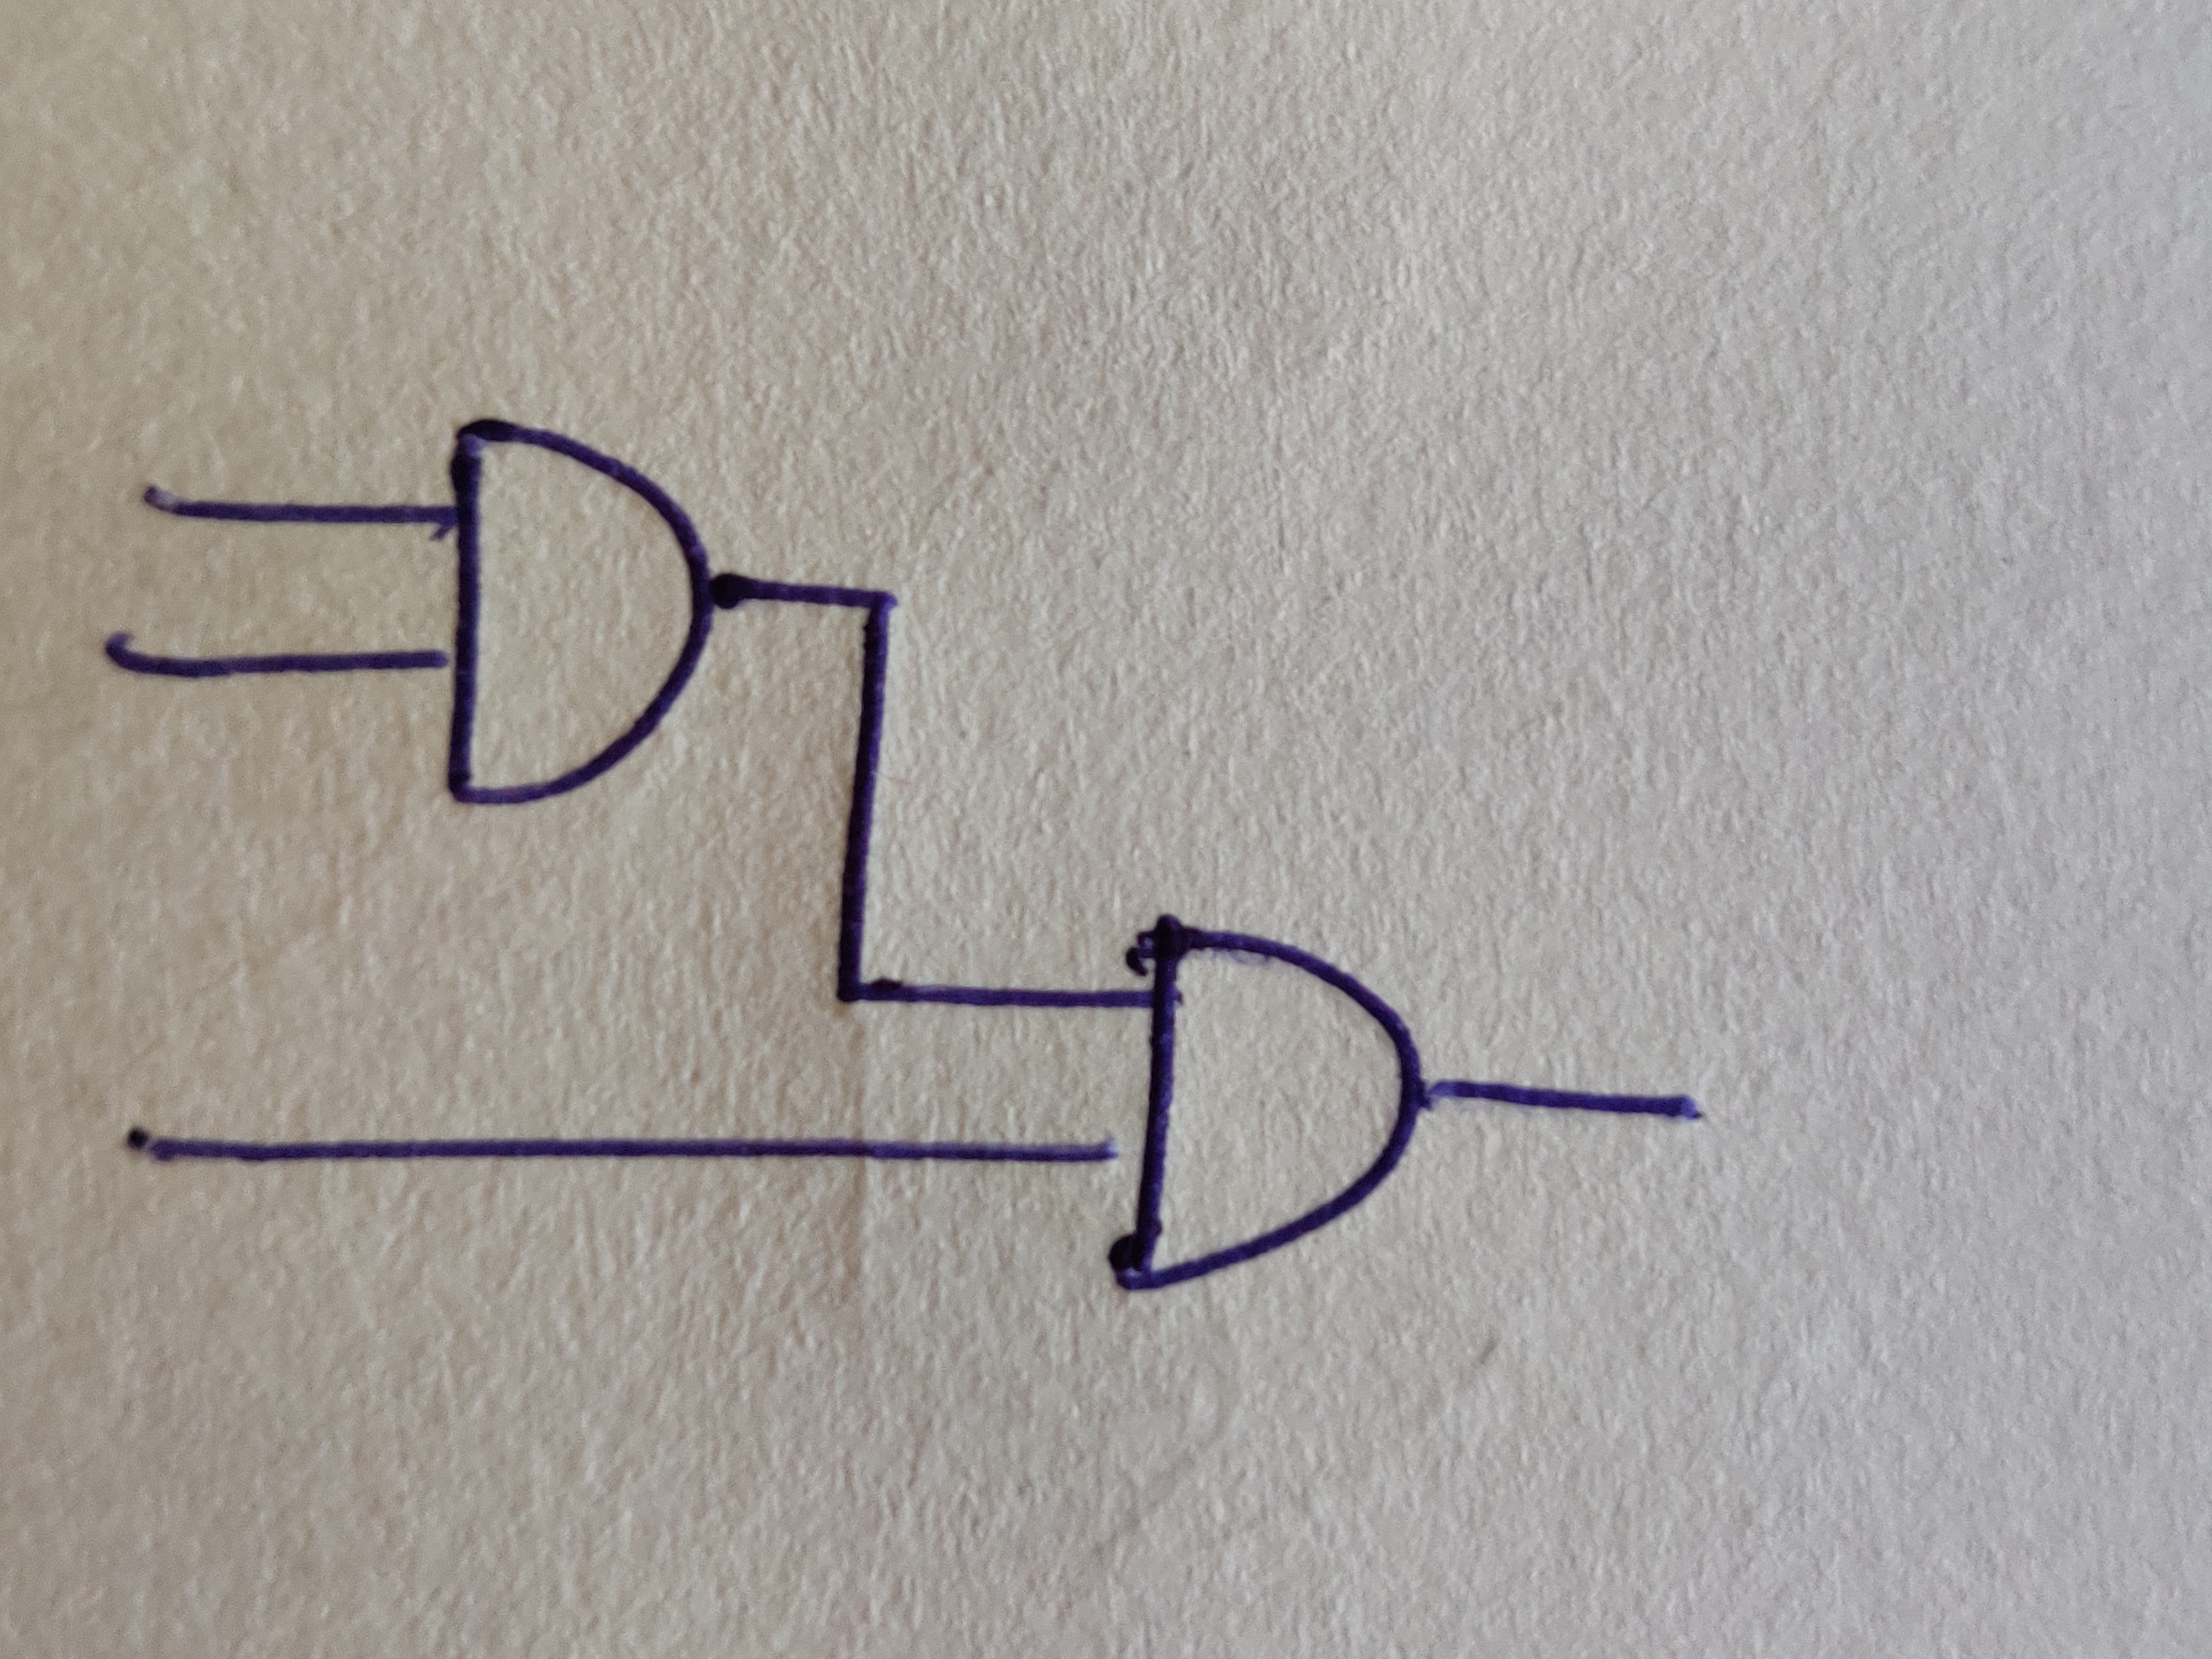and: (1109, 915, 1420, 1293), (448, 420, 714, 805)
